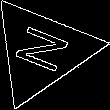N_SE: (8, 23, 75, 79)
